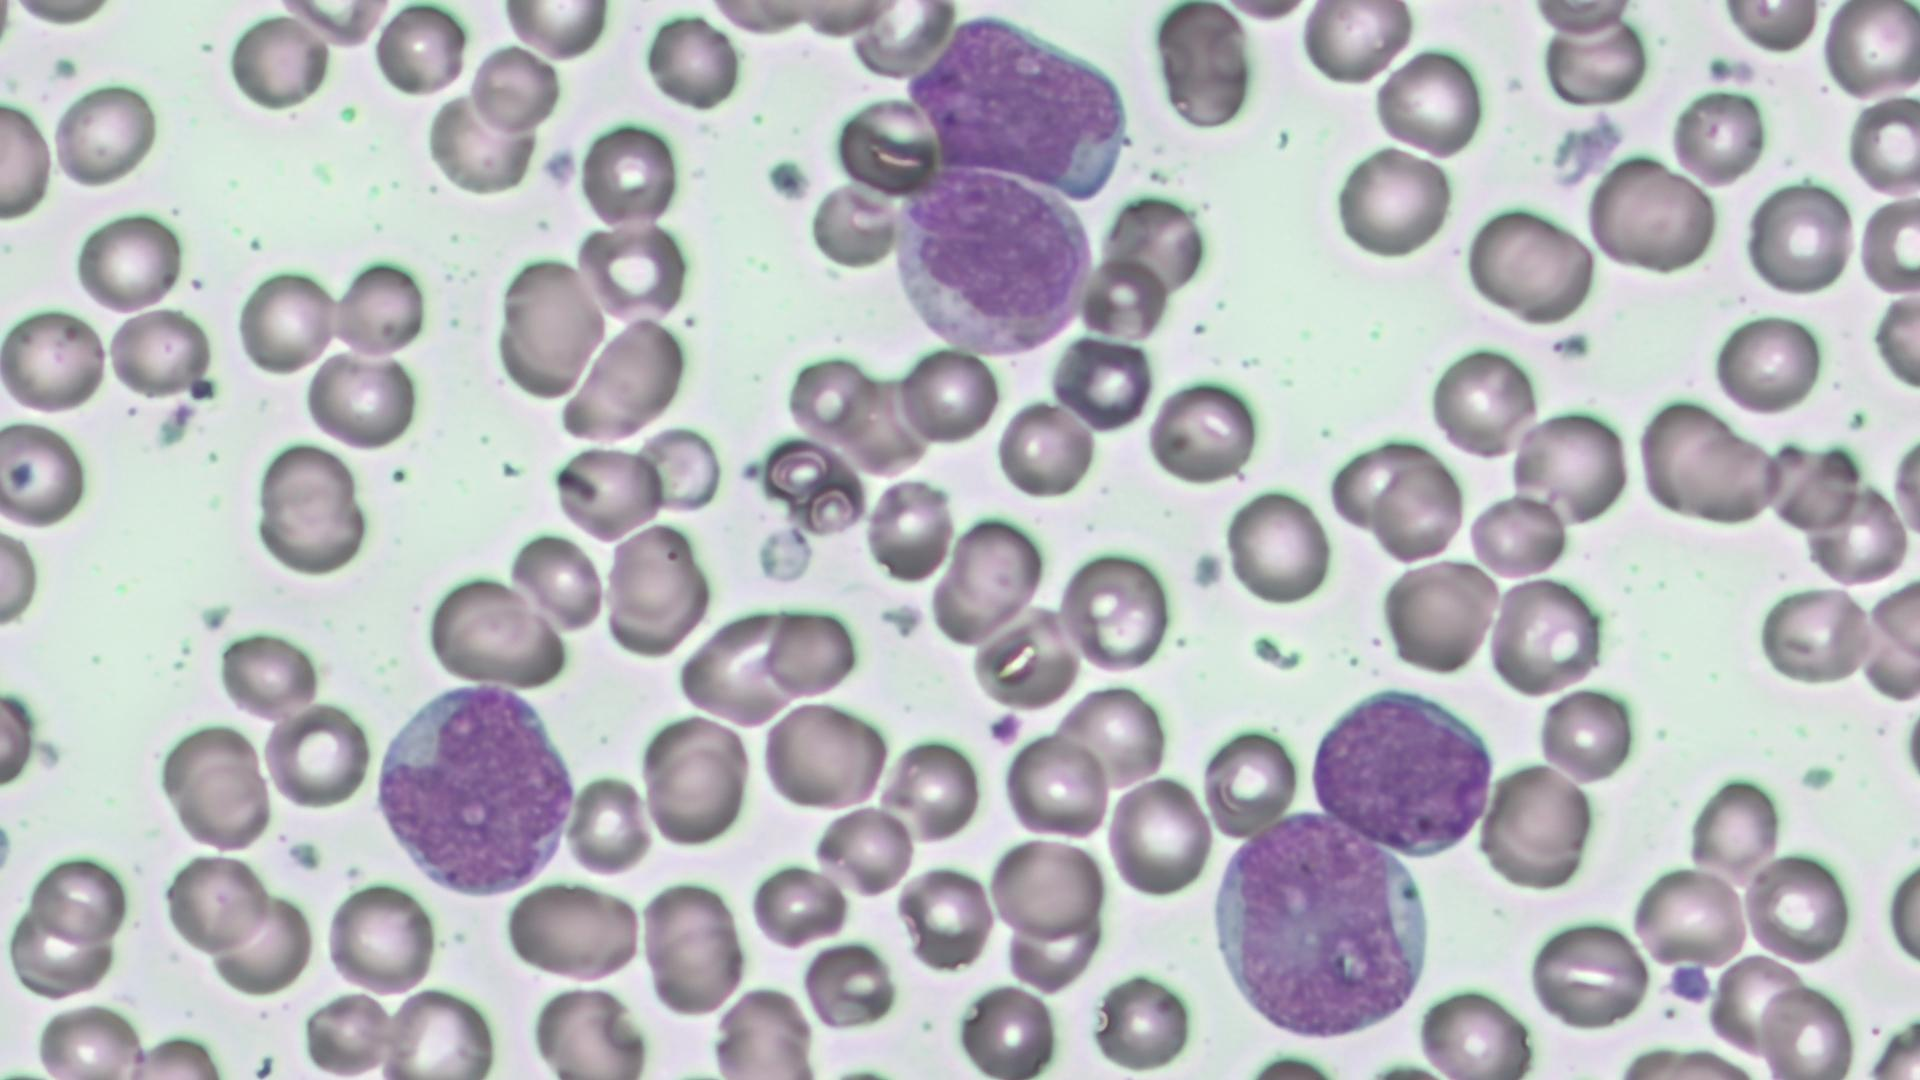Platelets: (158, 400, 198, 448), (182, 376, 219, 407)
RBC: (1633, 396, 1776, 524), (495, 255, 607, 402), (1586, 154, 1718, 280), (1465, 204, 1600, 326), (559, 314, 691, 436), (502, 876, 645, 986), (1478, 758, 1594, 891), (426, 576, 563, 688), (1331, 141, 1455, 265), (934, 512, 1046, 647), (761, 696, 890, 814), (1381, 555, 1499, 680), (1510, 406, 1633, 526), (1058, 549, 1172, 676), (675, 609, 800, 725), (1105, 770, 1215, 902), (1487, 576, 1605, 698), (1527, 916, 1654, 1029), (1150, 0, 1255, 133), (1222, 483, 1335, 608), (641, 717, 746, 849), (1425, 342, 1539, 464), (1371, 45, 1487, 162), (323, 878, 439, 996), (1054, 680, 1172, 795), (1745, 175, 1855, 298), (1630, 862, 1749, 971), (1745, 848, 1851, 967), (1001, 729, 1112, 843), (51, 75, 161, 190), (1756, 585, 1874, 692), (968, 604, 1083, 712), (1706, 309, 1821, 417), (578, 117, 682, 236), (1149, 378, 1262, 487), (1, 303, 108, 418), (642, 899, 746, 1017), (549, 440, 666, 545), (1683, 771, 1785, 890), (575, 219, 688, 326), (1324, 435, 1441, 538), (223, 8, 334, 116), (71, 207, 185, 313), (303, 345, 418, 450), (3, 898, 121, 998), (1704, 949, 1809, 1062), (989, 833, 1102, 938), (425, 94, 535, 199), (1366, 447, 1464, 566), (262, 702, 371, 808), (162, 851, 270, 957), (236, 262, 338, 376), (1203, 723, 1300, 840), (1803, 480, 1909, 587), (210, 889, 314, 998), (378, 982, 498, 1077), (526, 981, 646, 1076), (880, 736, 981, 848), (894, 344, 1002, 448), (993, 396, 1098, 501), (1534, 682, 1638, 789), (894, 862, 993, 973), (255, 483, 368, 578), (862, 473, 957, 587), (1414, 986, 1534, 1076), (1, 415, 91, 534), (1091, 971, 1192, 1075), (644, 8, 742, 115), (1539, 12, 1650, 107), (836, 94, 938, 196), (1669, 83, 1768, 189), (709, 982, 818, 1079), (166, 754, 274, 851), (105, 305, 215, 400), (1820, 0, 1917, 105), (332, 256, 429, 363), (955, 980, 1060, 1076), (214, 626, 322, 720), (1051, 335, 1154, 433), (1298, 3, 1414, 88), (1758, 980, 1859, 1077), (560, 770, 651, 878), (258, 438, 357, 535), (510, 531, 603, 636), (369, 3, 465, 102), (26, 851, 127, 945), (605, 520, 698, 622), (818, 804, 916, 899), (796, 939, 899, 1029), (30, 1000, 146, 1077), (1764, 435, 1857, 533), (1468, 492, 1568, 582), (765, 605, 860, 699), (750, 858, 847, 949), (468, 41, 560, 135), (807, 181, 903, 270), (783, 351, 880, 438), (299, 990, 394, 1073), (1845, 94, 1917, 200), (1080, 255, 1168, 342), (0, 94, 55, 227), (498, 1, 613, 63), (1857, 190, 1920, 298), (0, 509, 42, 641), (1865, 576, 1917, 678), (1720, 0, 1821, 51), (1873, 290, 1920, 396), (0, 679, 41, 800), (1887, 422, 1920, 562), (1522, 0, 1636, 36), (1, 0, 121, 32), (1208, 0, 1313, 24)
WBC: (1204, 808, 1437, 1042), (363, 678, 584, 897), (887, 166, 1100, 357), (1307, 680, 1502, 857)
